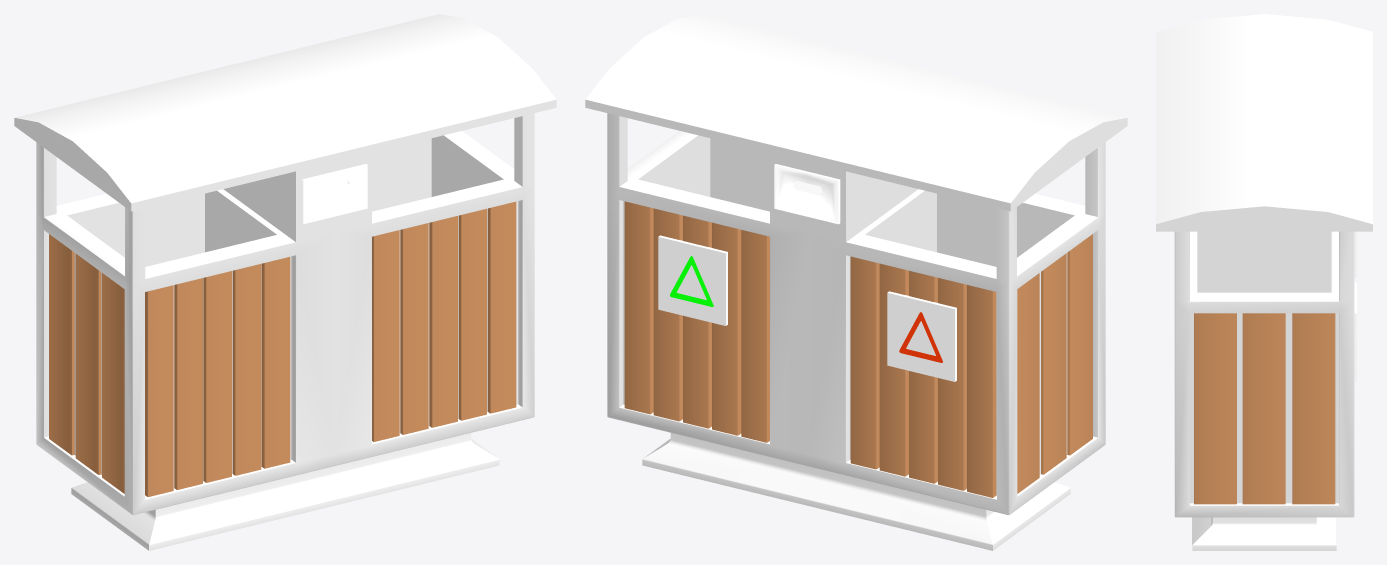
File: GarbageCan.glb
3 renders of one model, left to right at view 1: azimuth 30°, elevation 25°; view 2: azimuth 150°, elevation 25°; view 3: azimuth 270°, elevation 25°, orthographic. The views are drawn at different scales.
Parts seen in each view (by area): view 1: GarbageCan; view 2: GarbageCan; view 3: GarbageCan.
Boxes of the visible parts, box(x1,y1,x2,y2) form: GarbageCan: box(14, 14, 556, 550); GarbageCan: box(585, 14, 1127, 550); GarbageCan: box(1156, 14, 1372, 550).
Size of the model in its own units: 0.7013 by 0.6148 by 0.3339.
